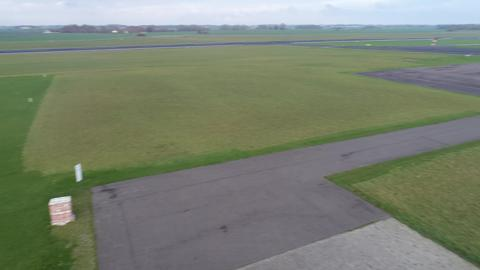RockwoolPallet: (47, 195, 75, 225)
